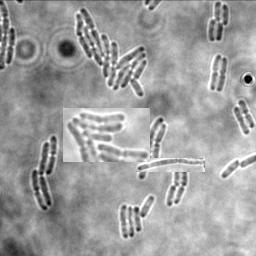Dividing: (136, 158, 205, 172), (238, 99, 255, 128), (209, 54, 222, 90), (175, 172, 189, 204), (217, 56, 228, 92), (7, 27, 17, 64)
Microcolony: (76, 7, 147, 98), (63, 108, 150, 162), (137, 117, 168, 180), (32, 135, 57, 211), (120, 195, 155, 238), (208, 1, 229, 42)
Rod: (233, 106, 251, 135), (222, 157, 240, 178), (167, 184, 177, 206), (174, 172, 183, 187)
